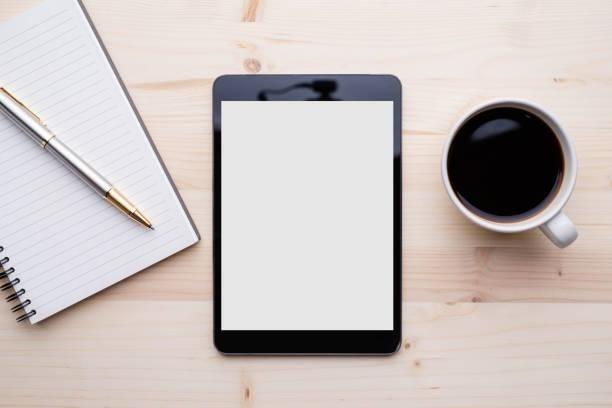cup-handle: (440, 97, 580, 249)
